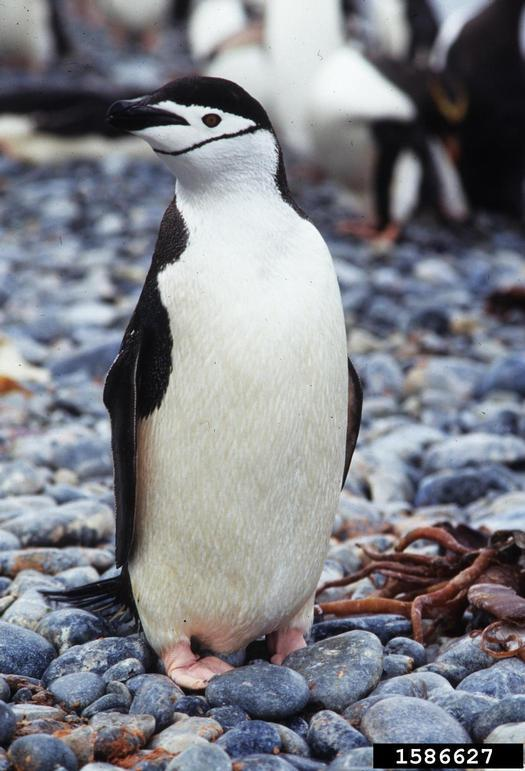chinstrap: (46, 35, 404, 696)
